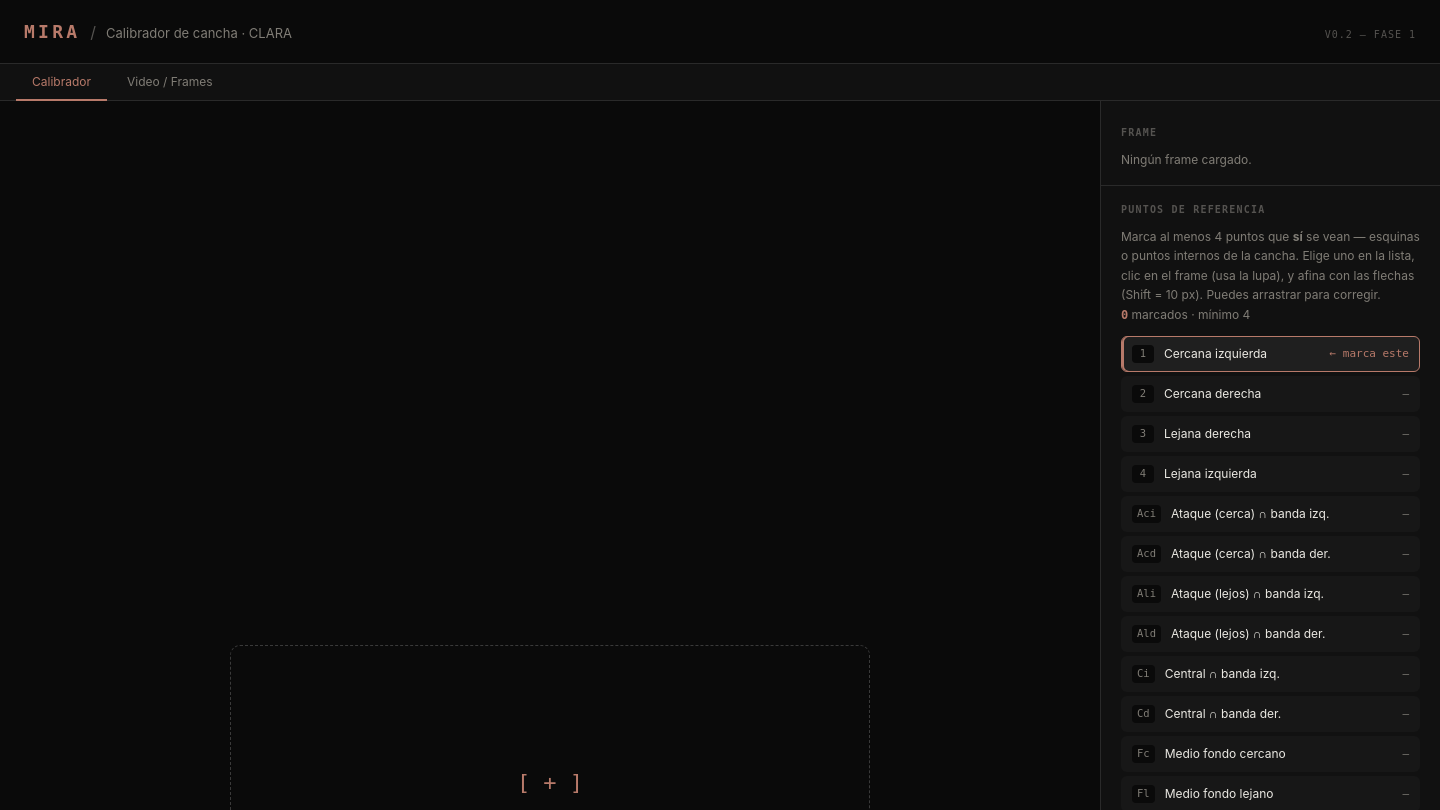
Test: Hud — barra de navegación y pestañas › cambiar a 'Video / Frames' muestra el dropzone de video
This screenshot has width=1440, height=810.
Step 1. Click the button "Video / Frames" → (170,82), box [111,64,229,101]
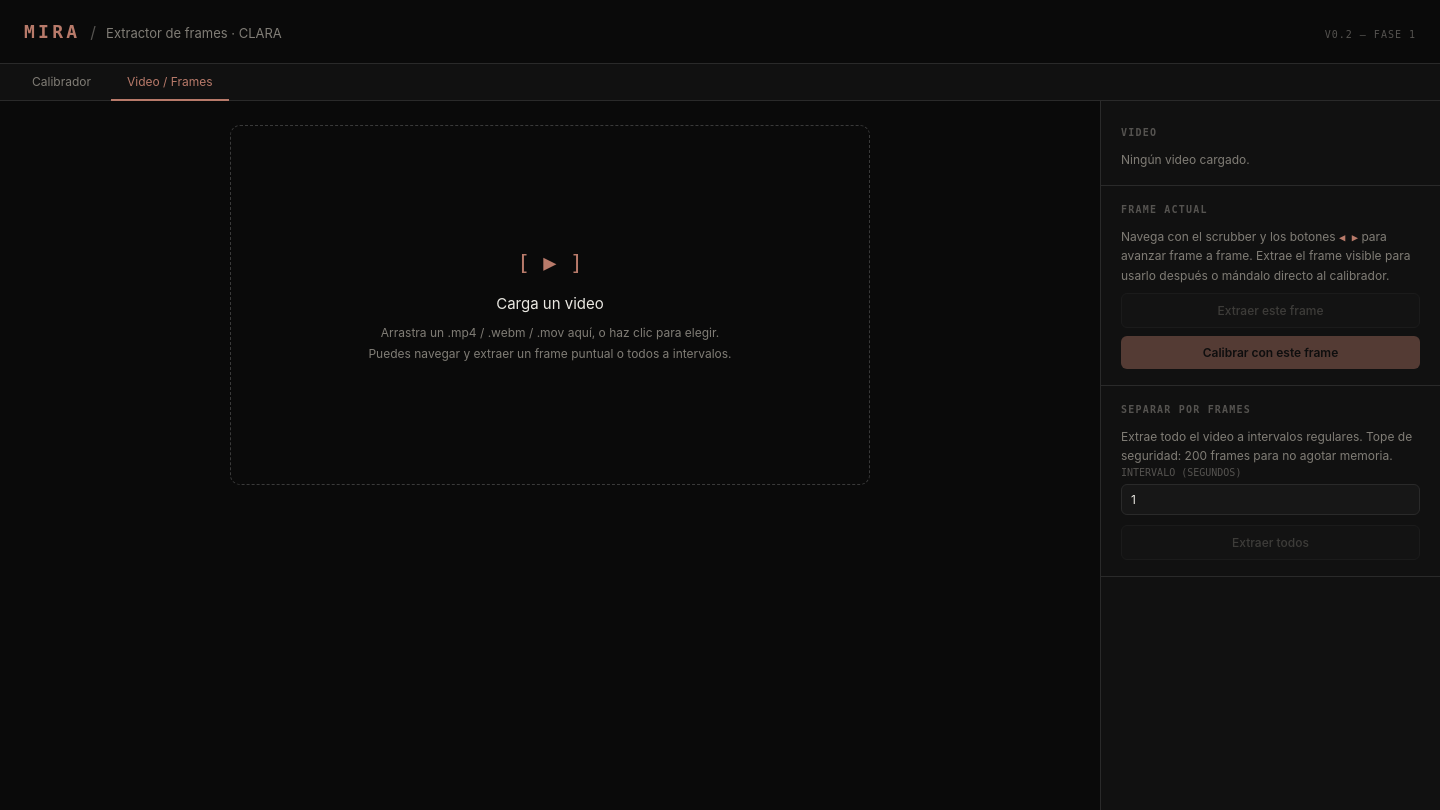
Expected: the text "Carga un video" is shown, [496,294,604,313]
Expected: the text "Extractor de frames · CLARA" is shown, [106,24,282,44]
Expected: the text "Cercana izquierda" is gone
